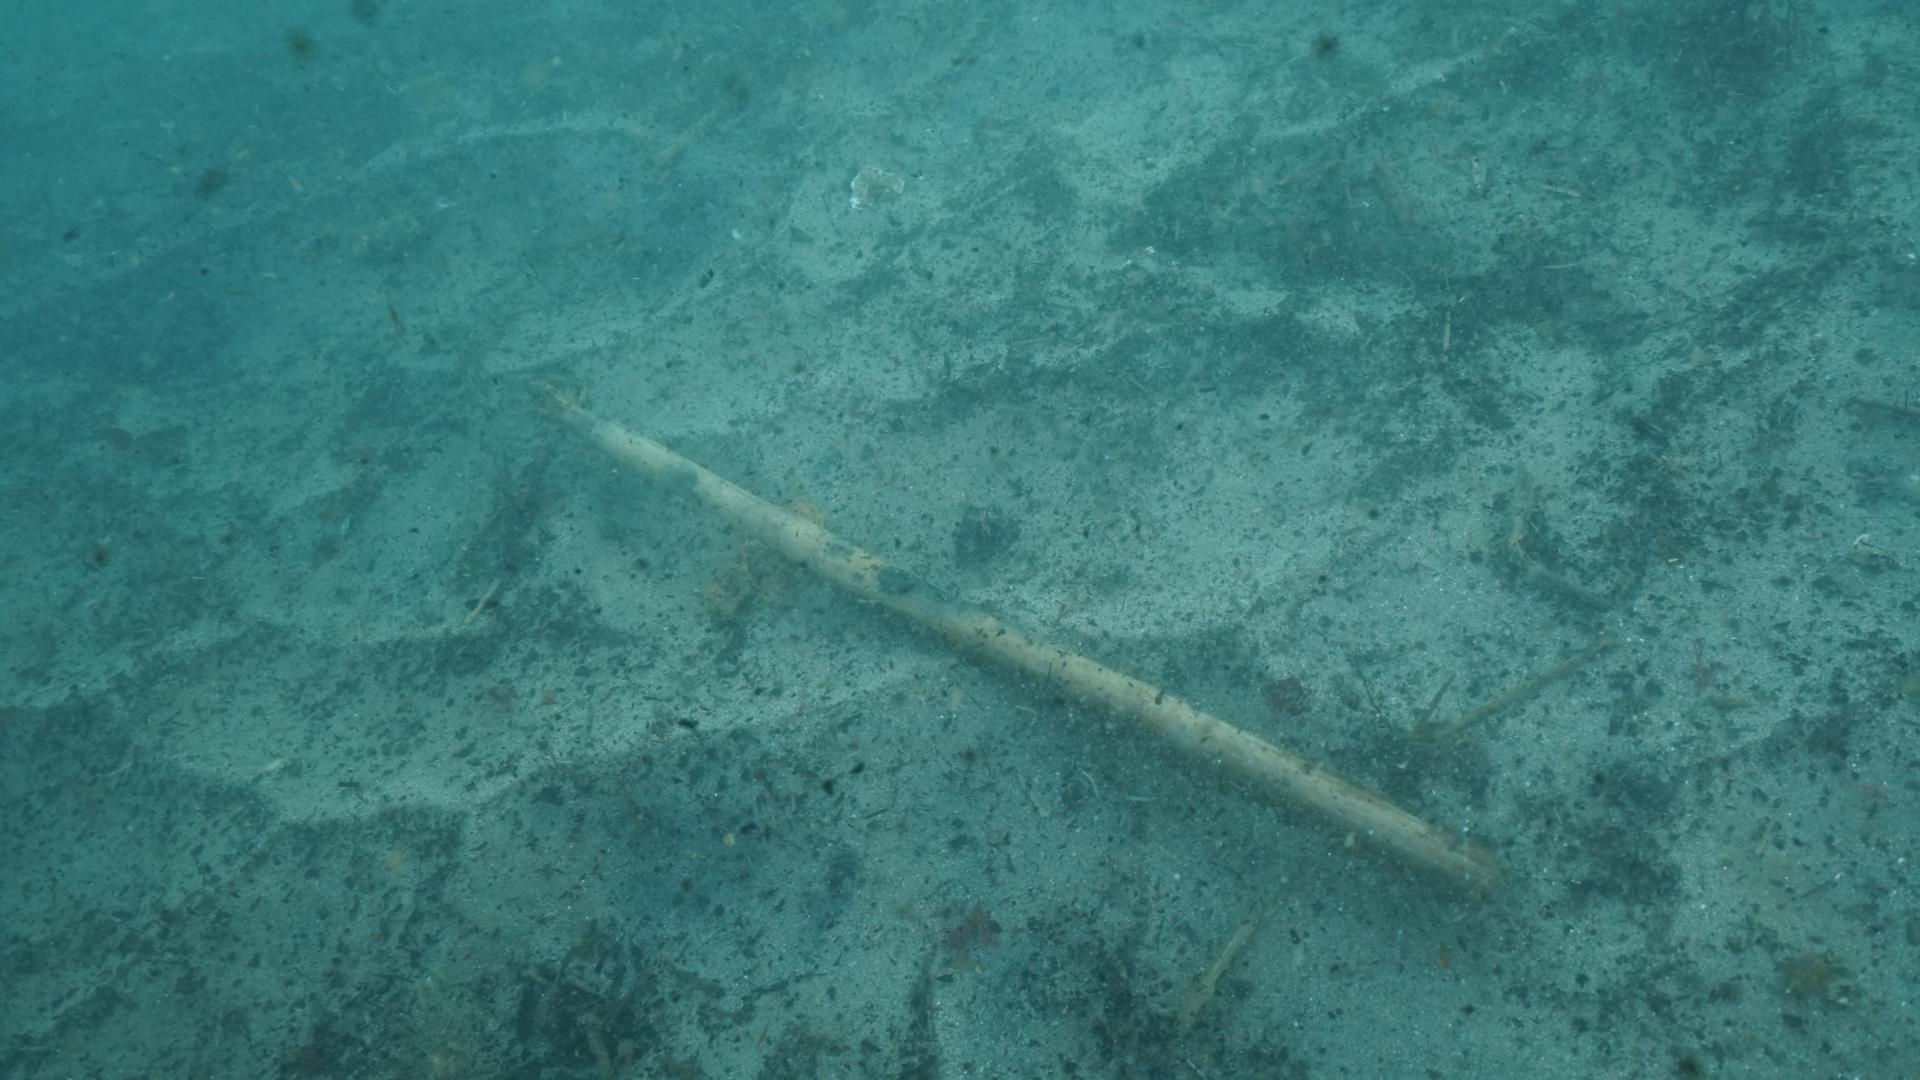wood: (505, 388, 1503, 889)
